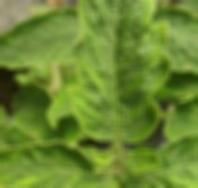Tomato leaf yellow virus: (66, 0, 164, 149), (0, 5, 85, 84), (0, 142, 117, 188), (132, 1, 198, 79), (126, 130, 198, 188)
